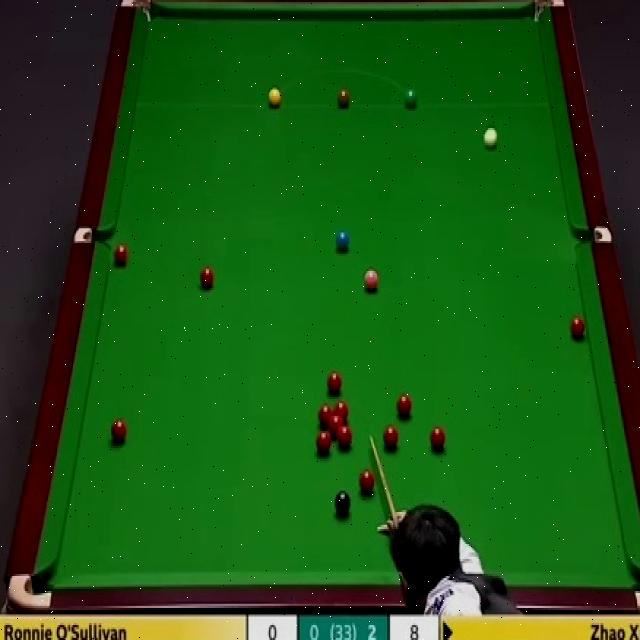black-ball: (333, 489, 350, 517)
blue-ball: (335, 228, 350, 255)
brown-ball: (336, 88, 351, 108)
green-ball: (404, 88, 418, 108)
pink-ball: (362, 268, 380, 292)
red-ball: (427, 425, 448, 454), (382, 424, 400, 455), (395, 391, 412, 422), (110, 418, 127, 446), (112, 243, 130, 269), (360, 466, 375, 497), (332, 400, 350, 424), (570, 315, 585, 343), (200, 264, 214, 292), (316, 431, 331, 457), (327, 372, 343, 396), (319, 403, 333, 429), (337, 425, 352, 449), (330, 416, 344, 437)
white-ball: (483, 126, 498, 149)
yellow-ball: (267, 88, 282, 108)
